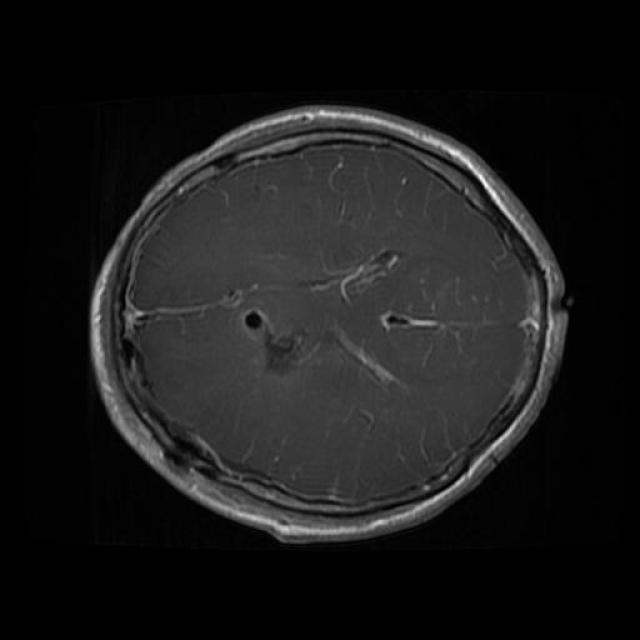Glioma: (242, 309, 305, 370)
